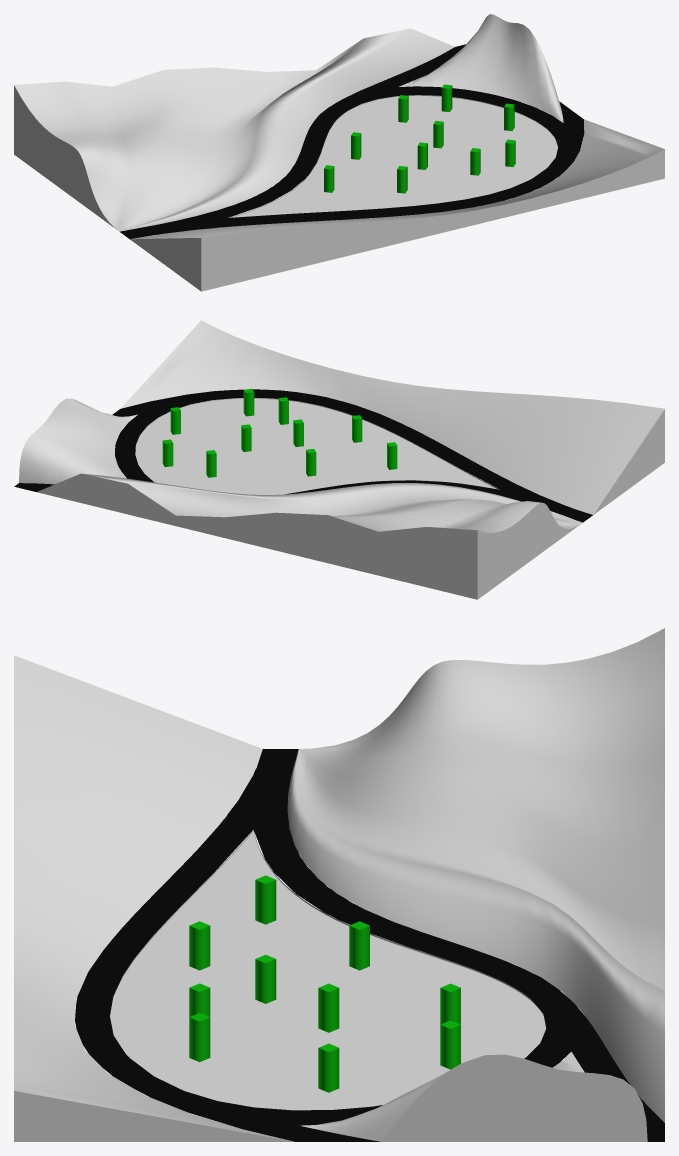
File: orchid_valley02.fbx
3 renders of one model, top to bottom at view 1: azimuth 30°, elevation 25°; view 2: azimuth 150°, elevation 25°; view 3: azimuth 270°, elevation 25°, orthographic. The views are drawn at different scales.
Parts seen in each view (by area): view 1: terrain, terrain.001, path, plants; view 2: terrain, terrain.001, path, plants; view 3: terrain, terrain.001, path, plants.
Part boxes in pixels (box(x1,y1,x2,y2)): terrain: box(14, 14, 664, 291); terrain.001: box(228, 95, 557, 217); path: box(120, 44, 584, 239); plants: box(324, 84, 515, 193); terrain: box(19, 320, 664, 599); terrain.001: box(135, 398, 500, 494); path: box(14, 389, 592, 522); plants: box(162, 388, 397, 477); terrain: box(14, 628, 664, 1141); terrain.001: box(110, 830, 546, 1110); path: box(75, 749, 664, 1141); plants: box(189, 875, 460, 1092).
Size of the model in its own units: 10384 by 1509 by 7269.
